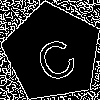C: (27, 27, 81, 85)
